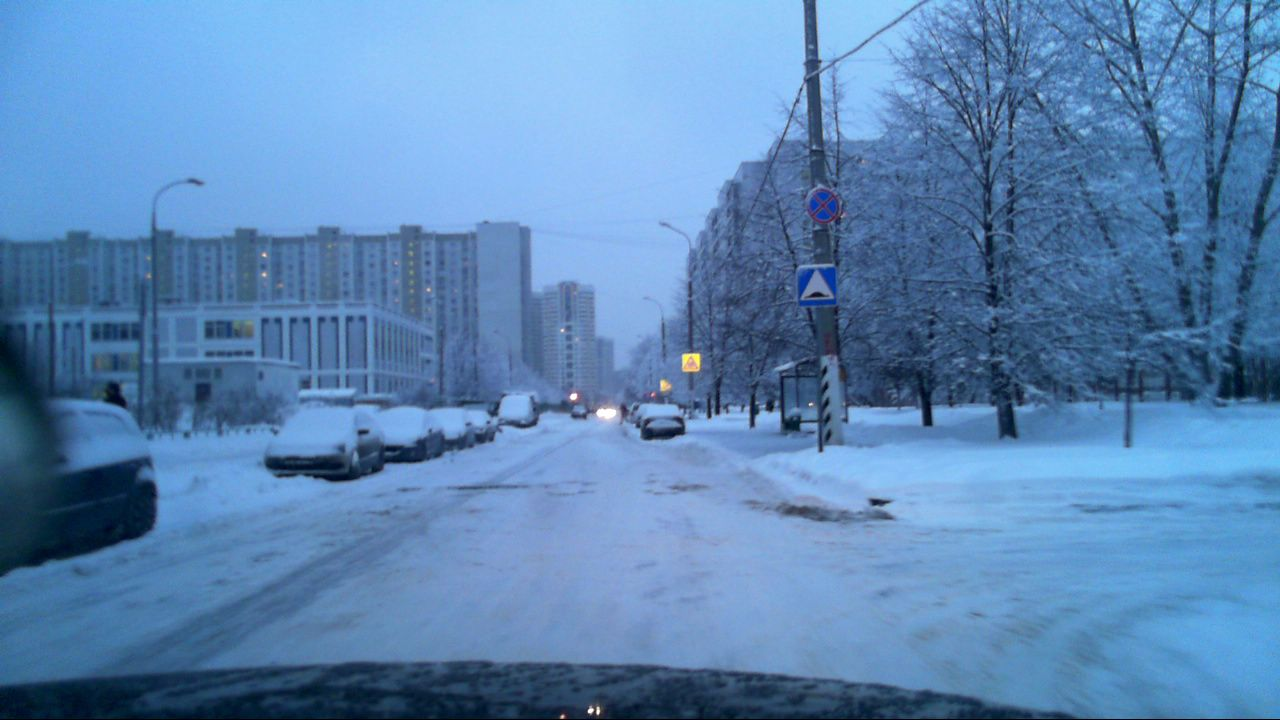No Parking: (805, 185, 842, 221)
